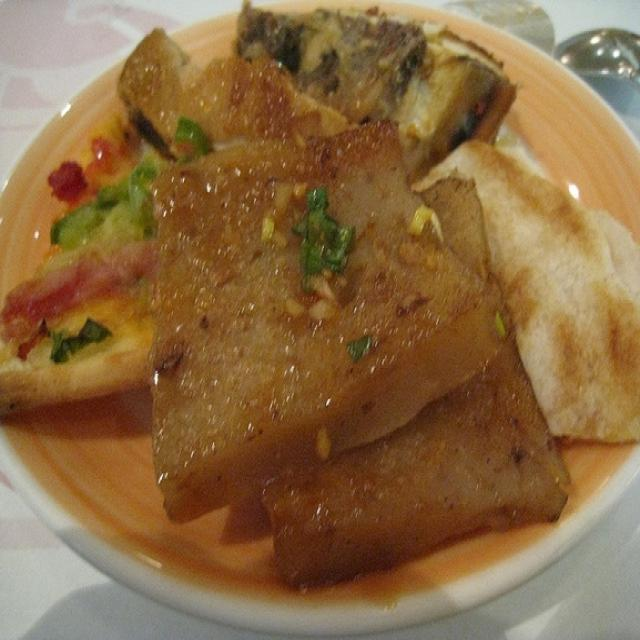蛋糕甜品: (43, 31, 599, 578)
